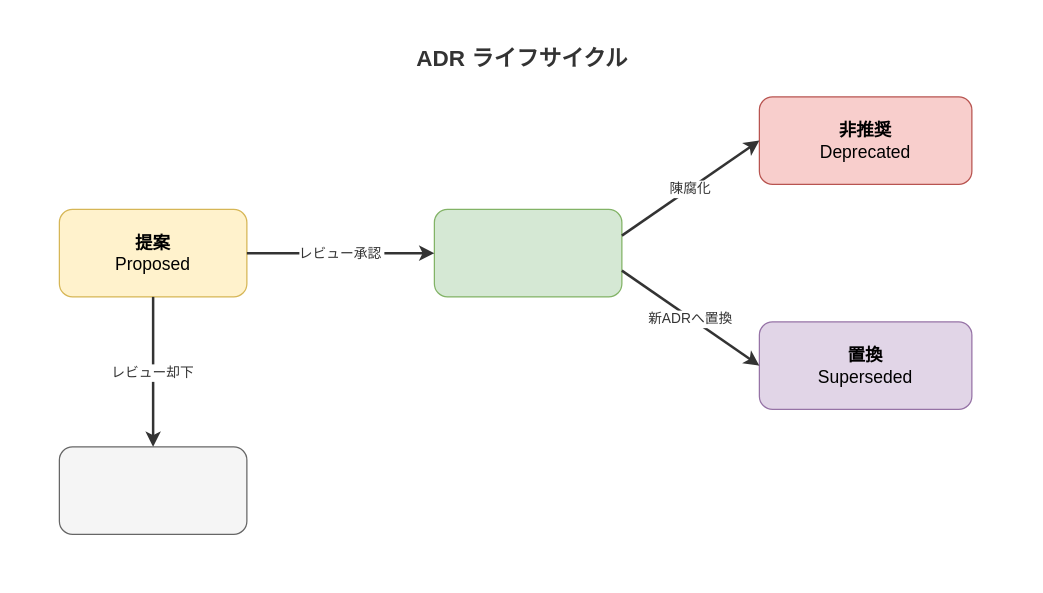
This 1043x593 diagram has some shape labels left out. Here are the shapes that lost their labels. From the top down, the centre of each, then its label:
At pixel 527 252: "承認 Accepted".
At pixel 152 490: "却下 Rejected".
